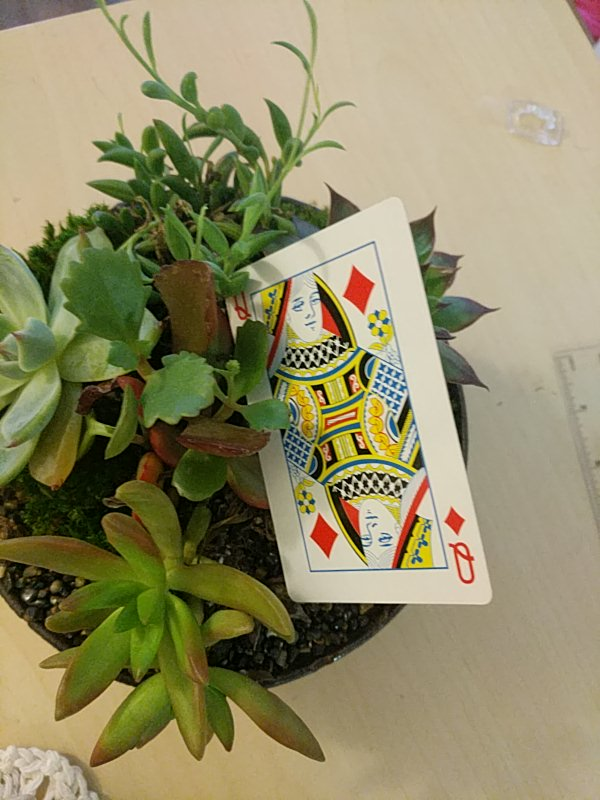Diamonds: (220, 198, 494, 606)
